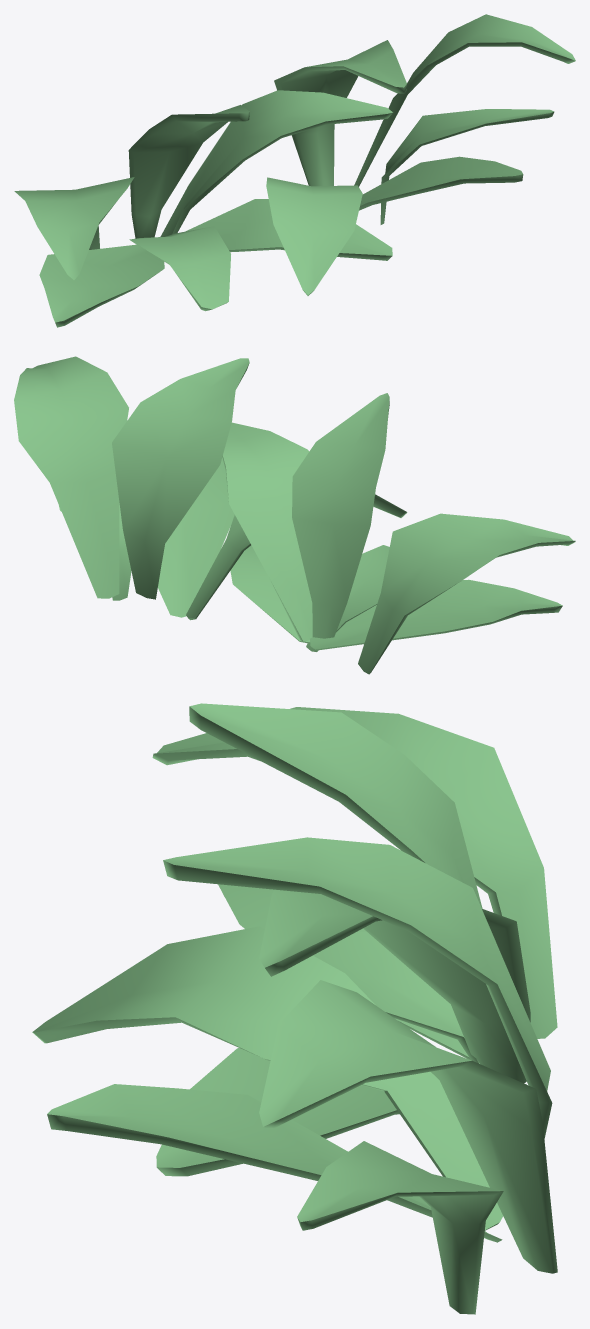
Rendered from Bush 04.glb.
3 views of the same model, one above another, from view 1: azimuth 30°, elevation 25°; view 2: azimuth 150°, elevation 25°; view 3: azimuth 270°, elevation 25° (orthographic). The views are drawn at different scales.
Visible parts, largest first — view 1: Bush 04; view 2: Bush 04; view 3: Bush 04.
Part boxes in pixels (<box>): Bush 04: <box>14,14,575,327</box>; Bush 04: <box>14,356,575,674</box>; Bush 04: <box>32,703,557,1314</box>.
Size of the model in its own units: 5.54 by 2.1 by 2.42.
